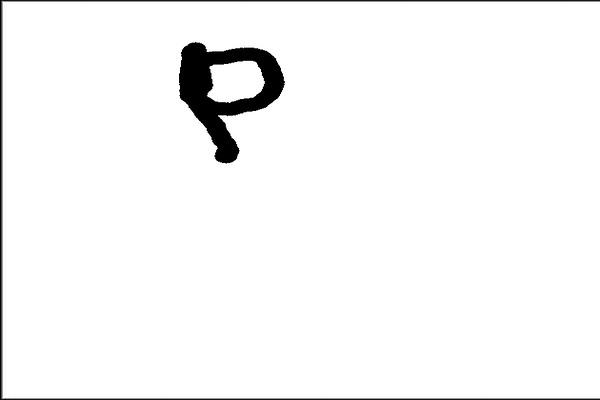P: (166, 32, 296, 172)
